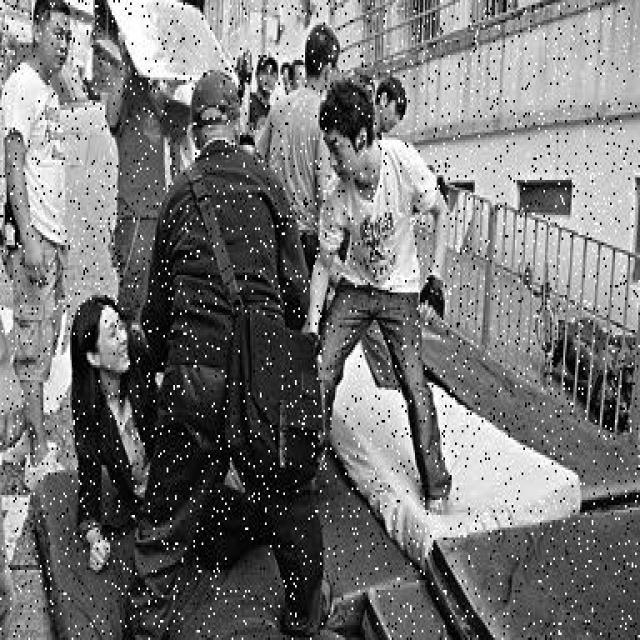fall: (70, 290, 270, 555)
